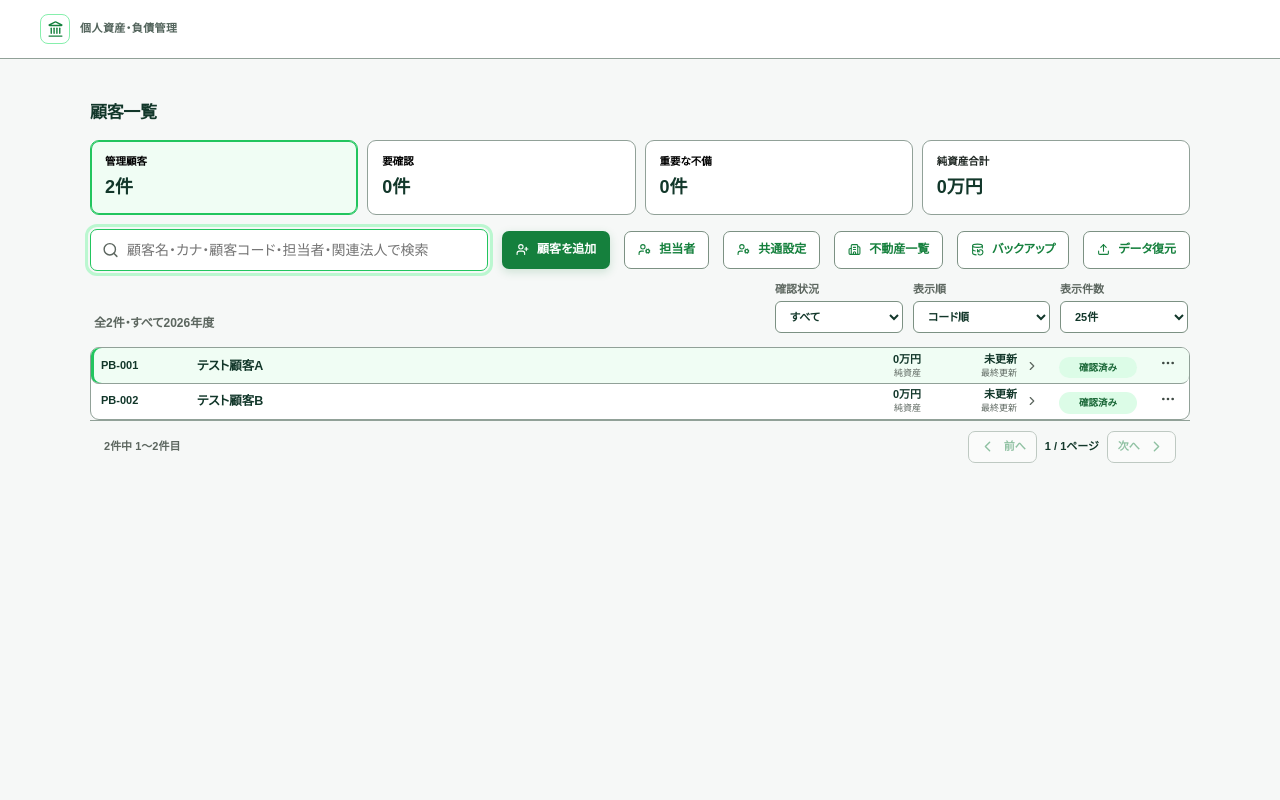
Test: 顧客一覧からの削除 › 削除失敗時は一覧と確認画面を残してエラーを表示する
The image size is (1280, 800).
Click the button named "テスト顧客Aの操作".
click(1168, 363)  # box [1153, 348, 1183, 378]
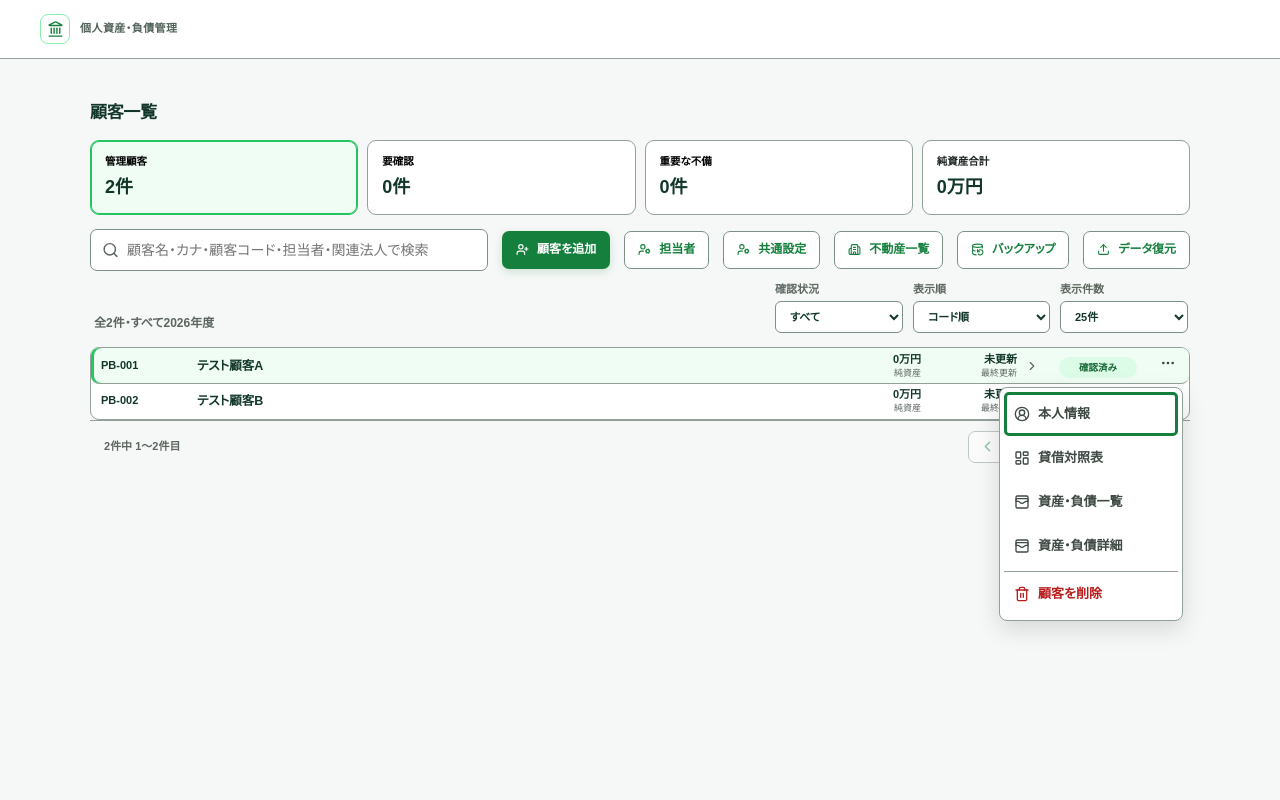
Click the menu item "顧客を削除".
click(1091, 594)  # box [1004, 572, 1178, 616]
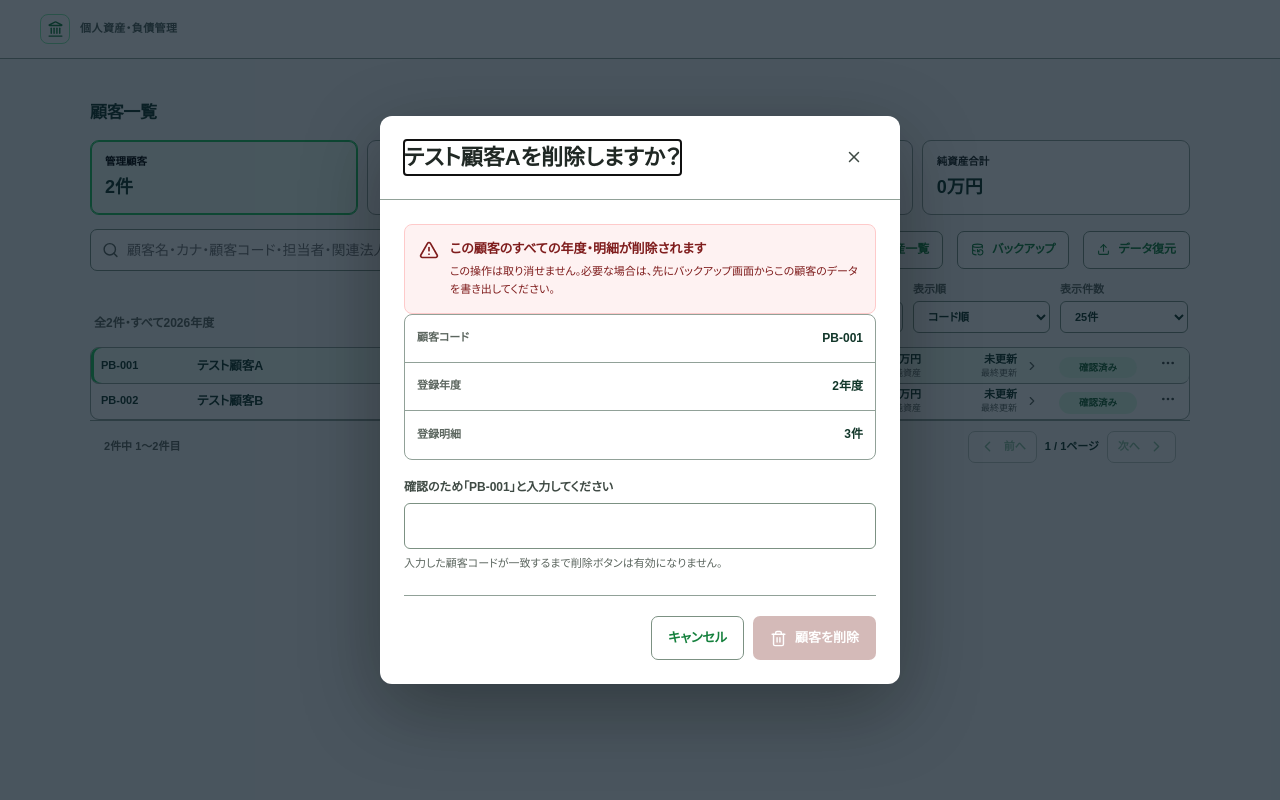
Type "PB-001" into the field.
click(640, 526); type("PB-001")  # box [404, 503, 876, 549]
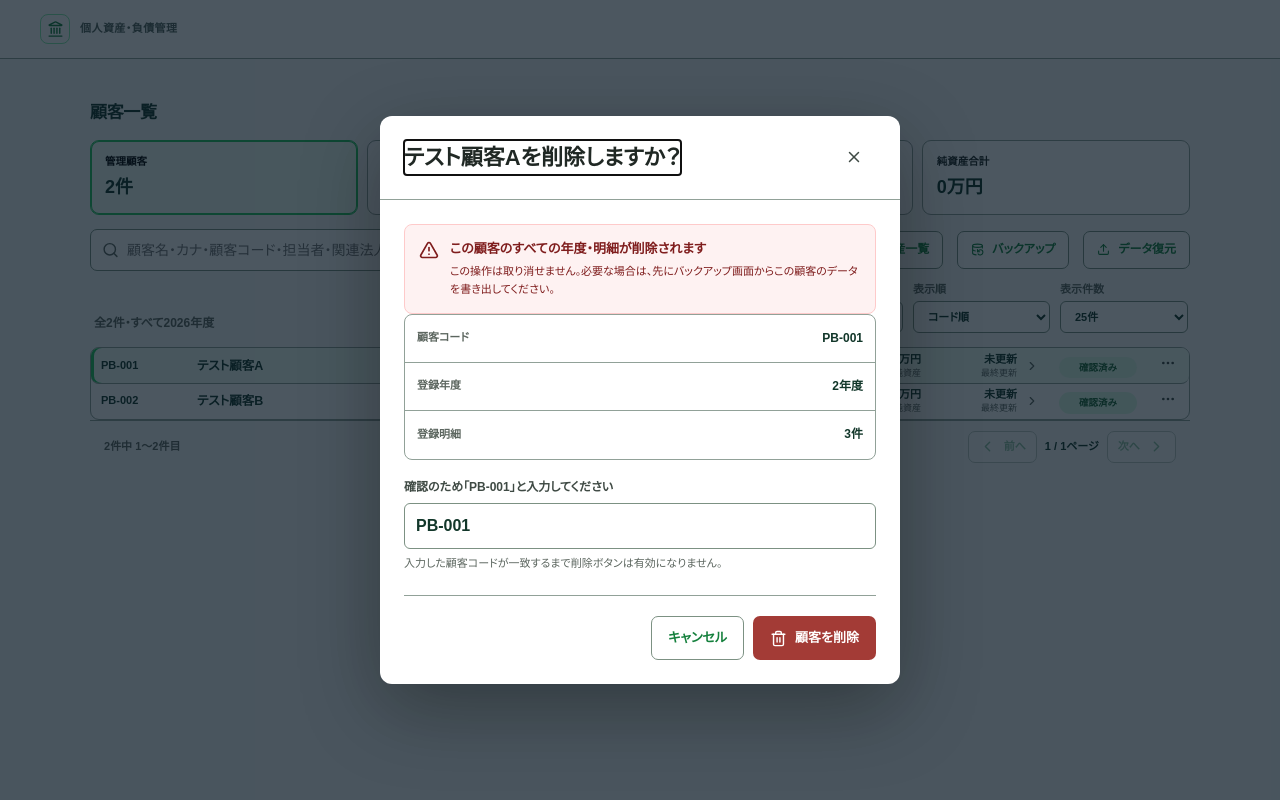
Click the button "顧客を削除".
click(814, 638)  # box [753, 616, 876, 660]
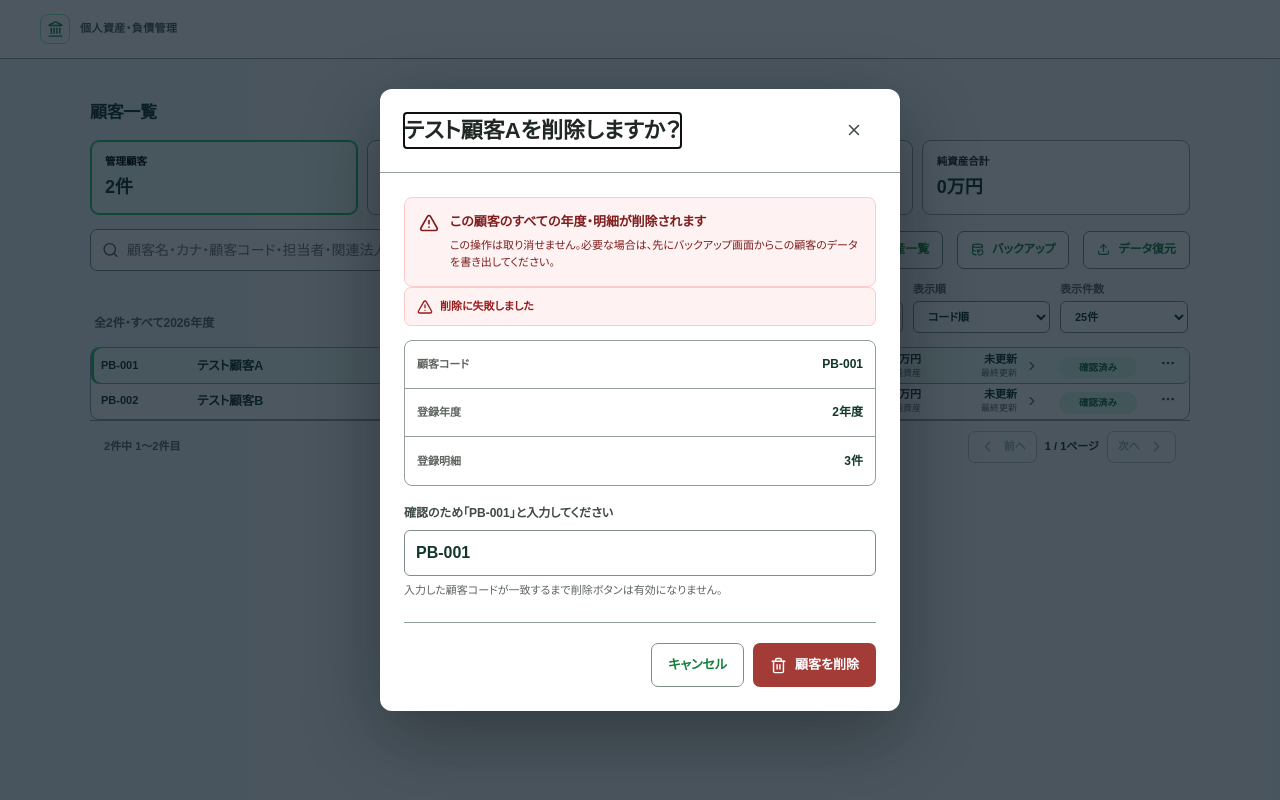
Expected: the link "PB-001 テスト顧客A 0万円 純資産 未更新 最終更新" is shown, [91, 351, 1049, 381]
Expected: the button "顧客を削除" is enabled, [753, 643, 876, 687]
Expected: the message "削除に失敗しました" is shown, [404, 287, 876, 326]
